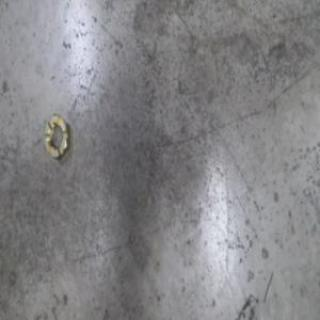Nuttrack_idkeyframe: (40, 110, 70, 162)
